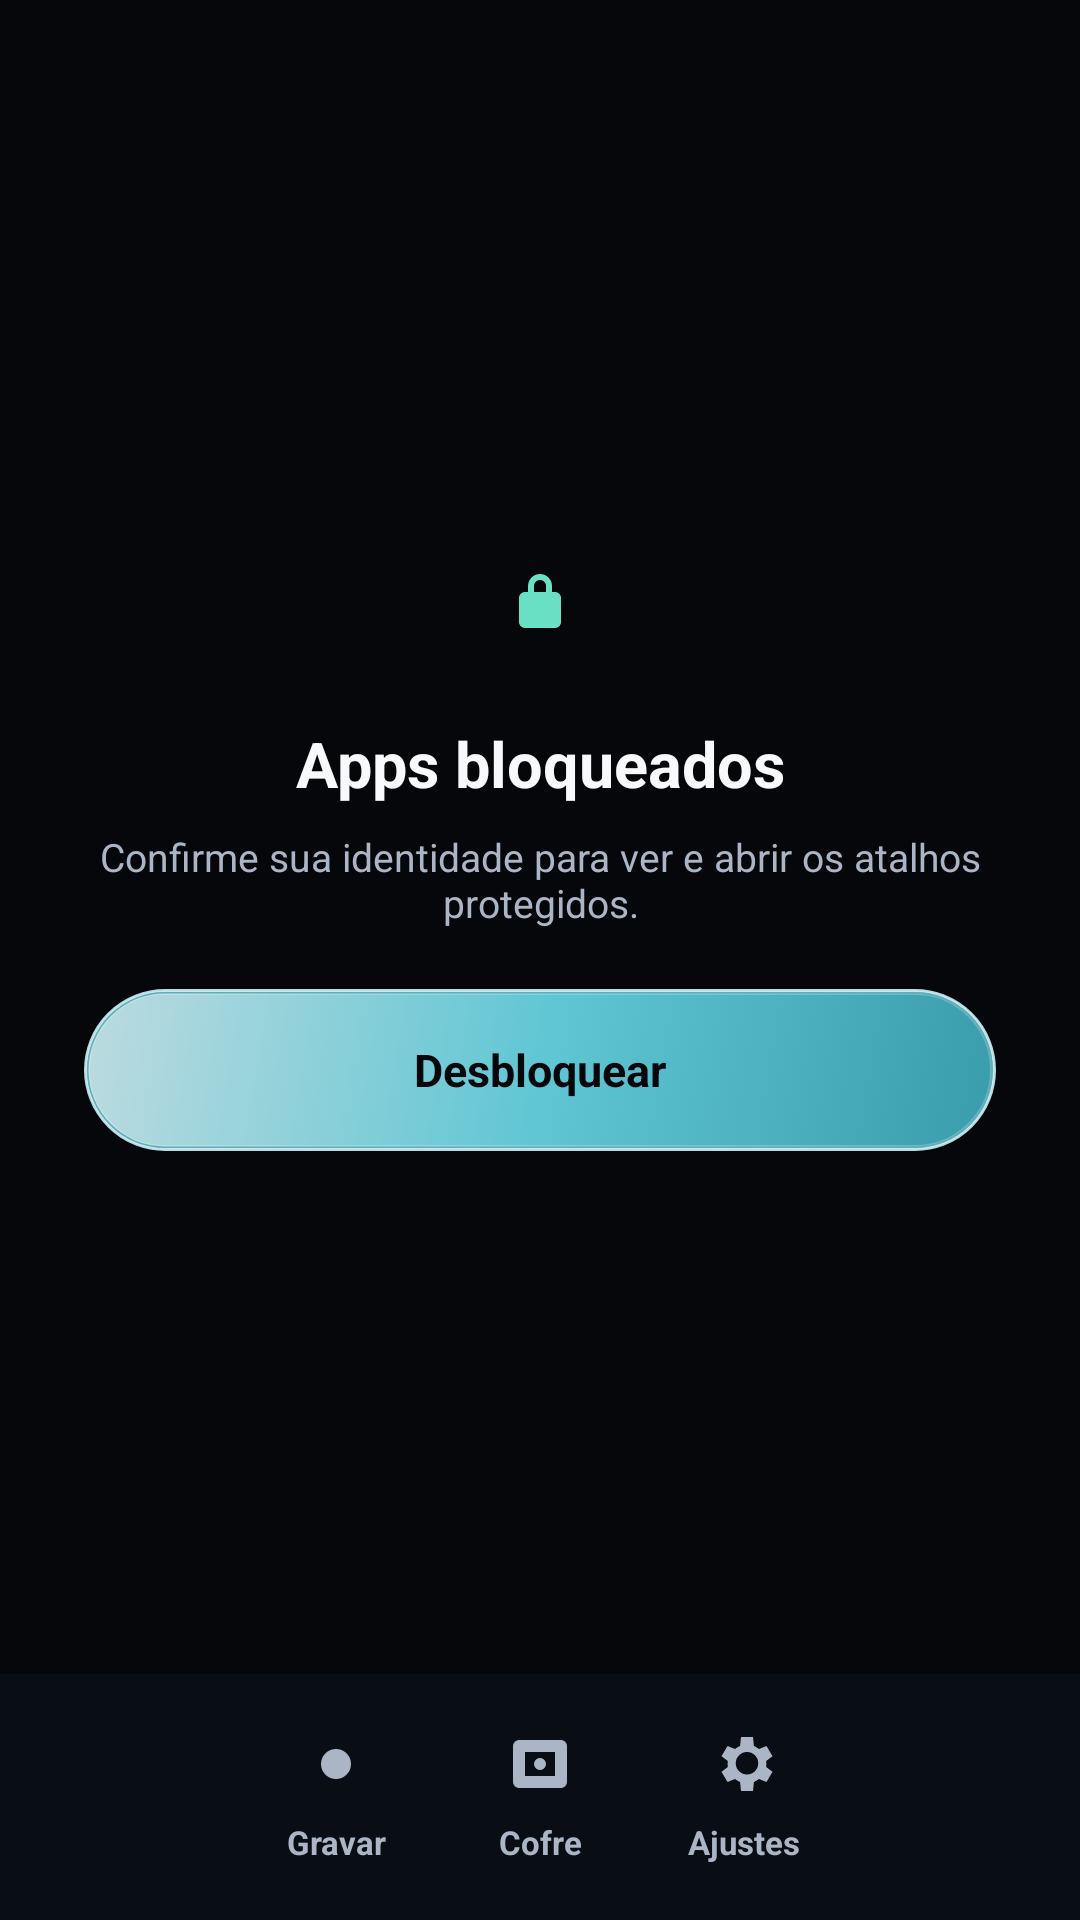

Point at icon controls on the screen. Image size 1080px×1920px, points as (x=x, y=y).
Apps protegidos: (x=540, y=601)
